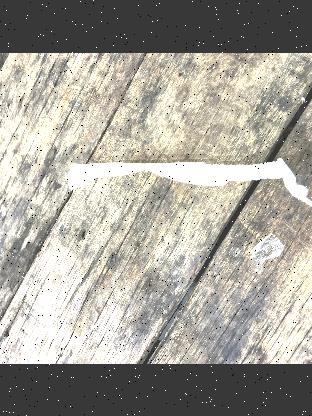Others: (65, 157, 312, 210), (251, 236, 284, 264)
